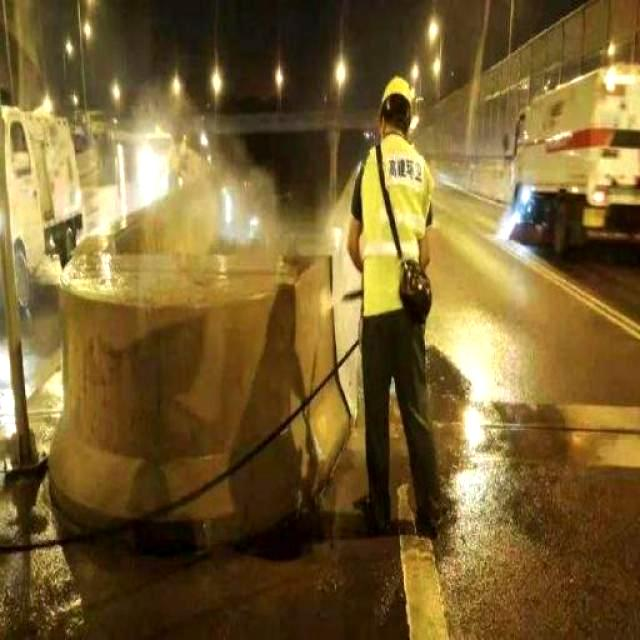hard_hat: (381, 76, 415, 110)
person: (348, 76, 435, 534)
